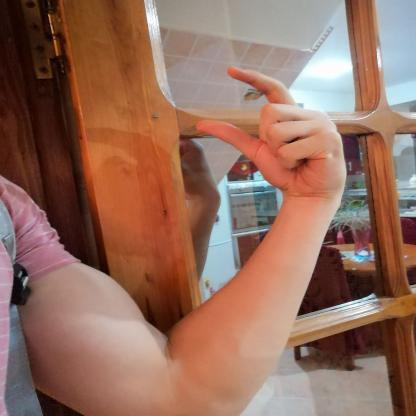DELL: (178, 59, 360, 205)
